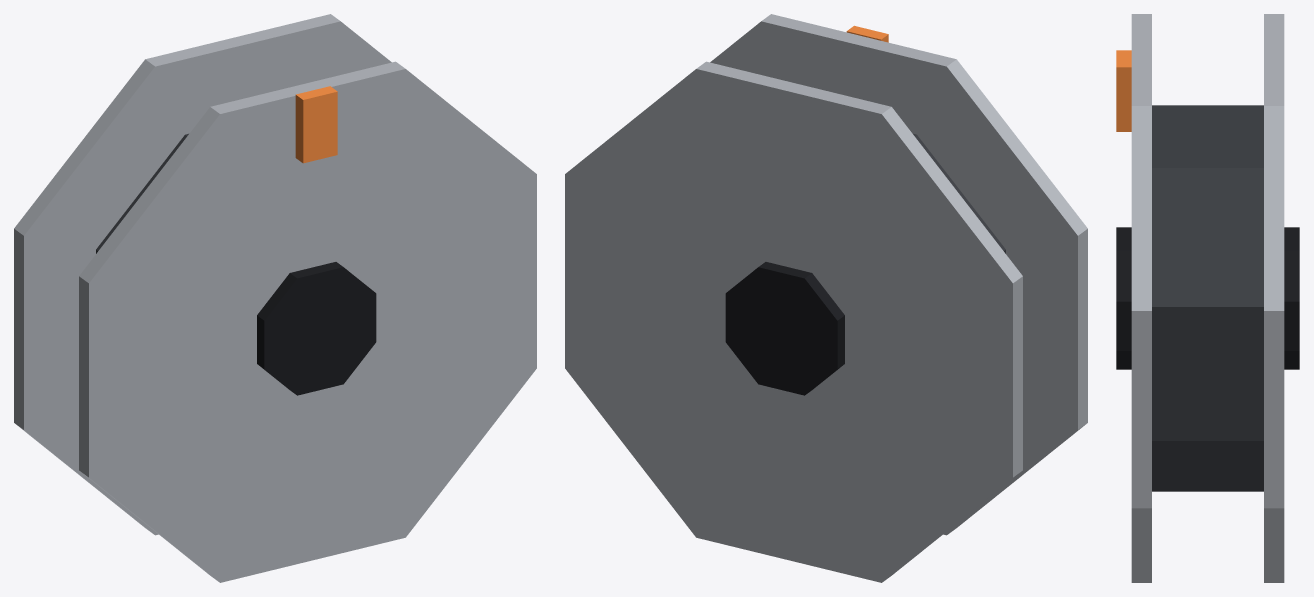
Rendered from probe_module_reel.glb.
The picture shows the model from 3 angles, left to right: view 1: azimuth 30°, elevation 25°; view 2: azimuth 150°, elevation 25°; view 3: azimuth 270°, elevation 25°; orthographic projection.
Parts seen in each view (by area): view 1: ProbeModuleReel; view 2: ProbeModuleReel; view 3: ProbeModuleReel.
Part boxes in pixels (x1,y1,x2,y2): ProbeModuleReel: (14, 14, 536, 582); ProbeModuleReel: (565, 14, 1087, 582); ProbeModuleReel: (1116, 14, 1299, 582).
Bounding box in the file's own units: 0.1035 × 0.1037 × 0.036.
